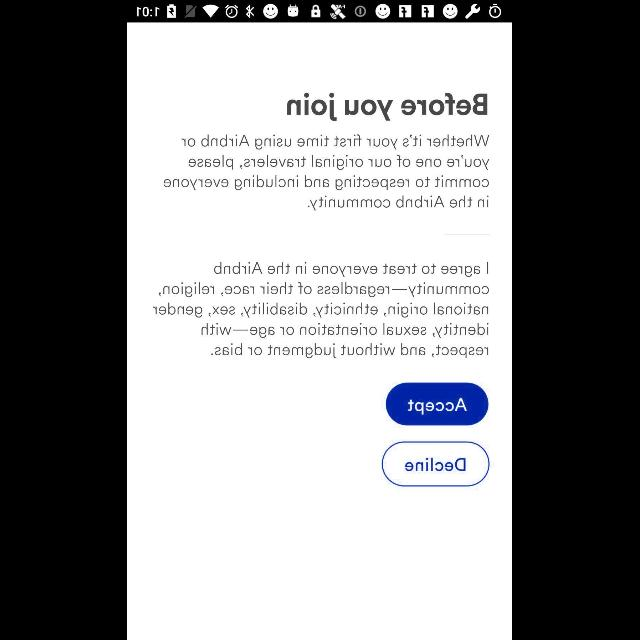text: (154, 262, 491, 358), (164, 134, 490, 212), (287, 92, 488, 121)
textbutton: (382, 441, 490, 487), (386, 382, 489, 426)
uppertaskbar: (128, 1, 512, 23)
